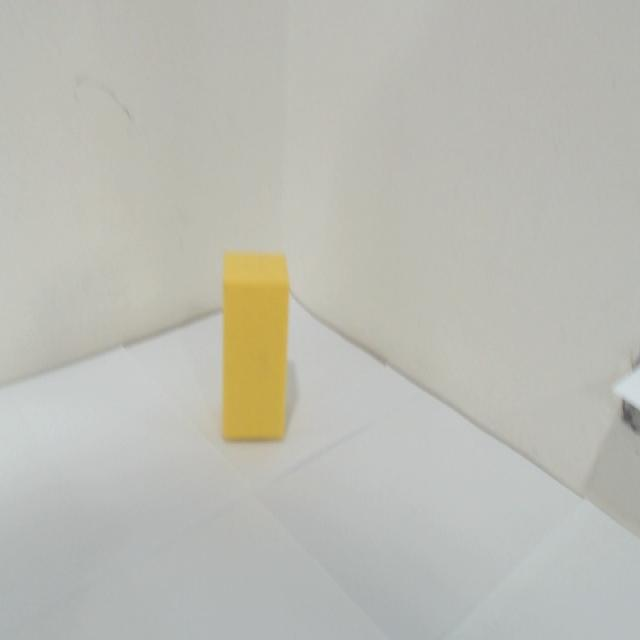cube: (209, 226, 301, 460)
